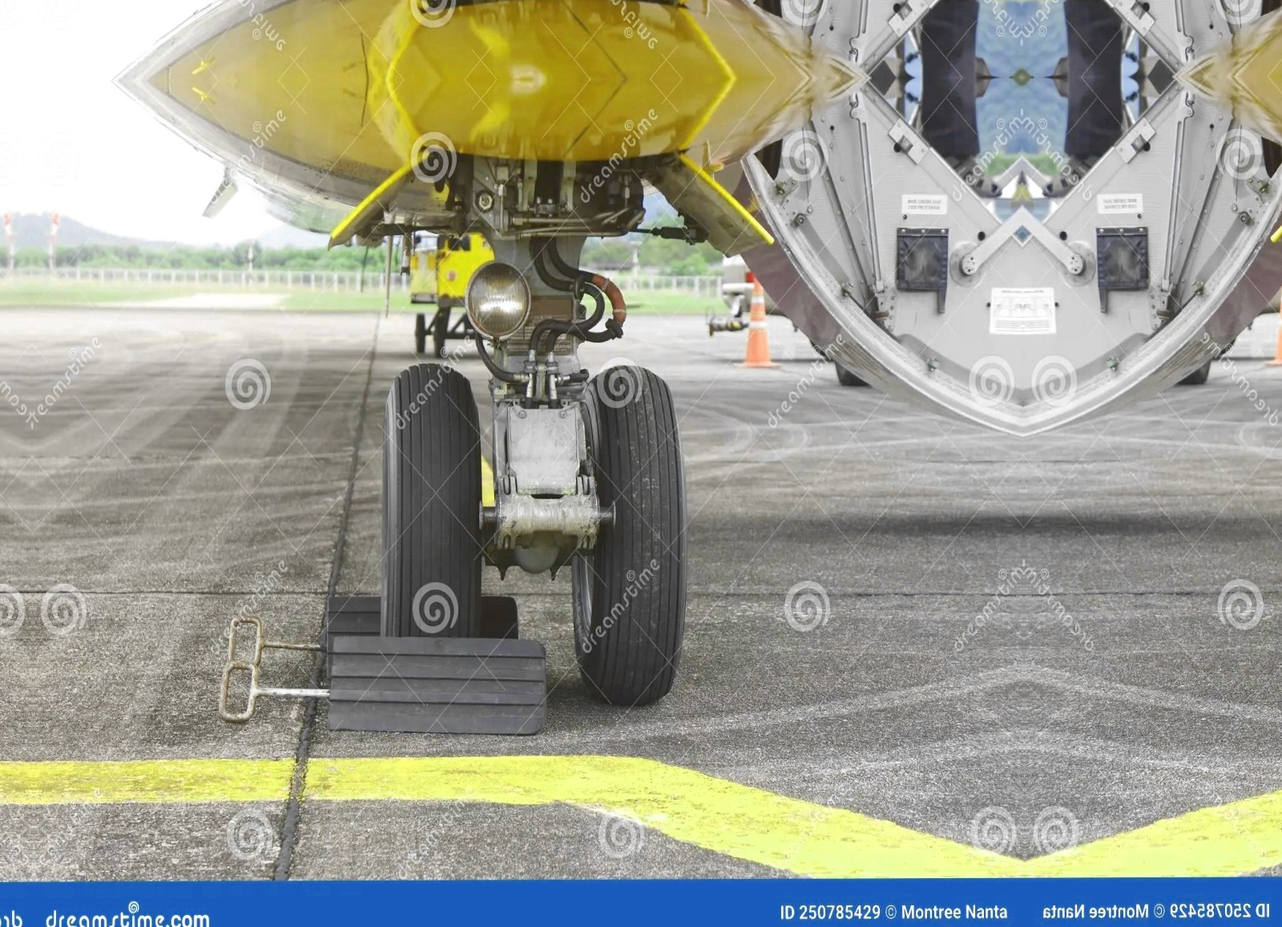chock: (325, 637, 551, 732), (319, 591, 522, 640)
wheel: (568, 367, 684, 700), (382, 361, 485, 636)
